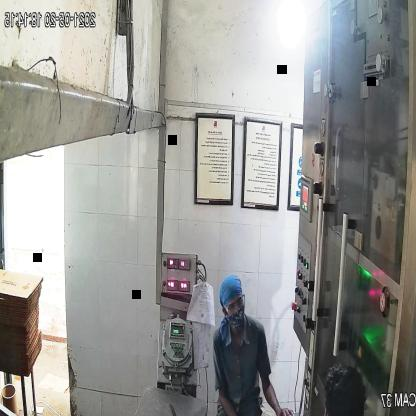goggles: (222, 291, 247, 318)
